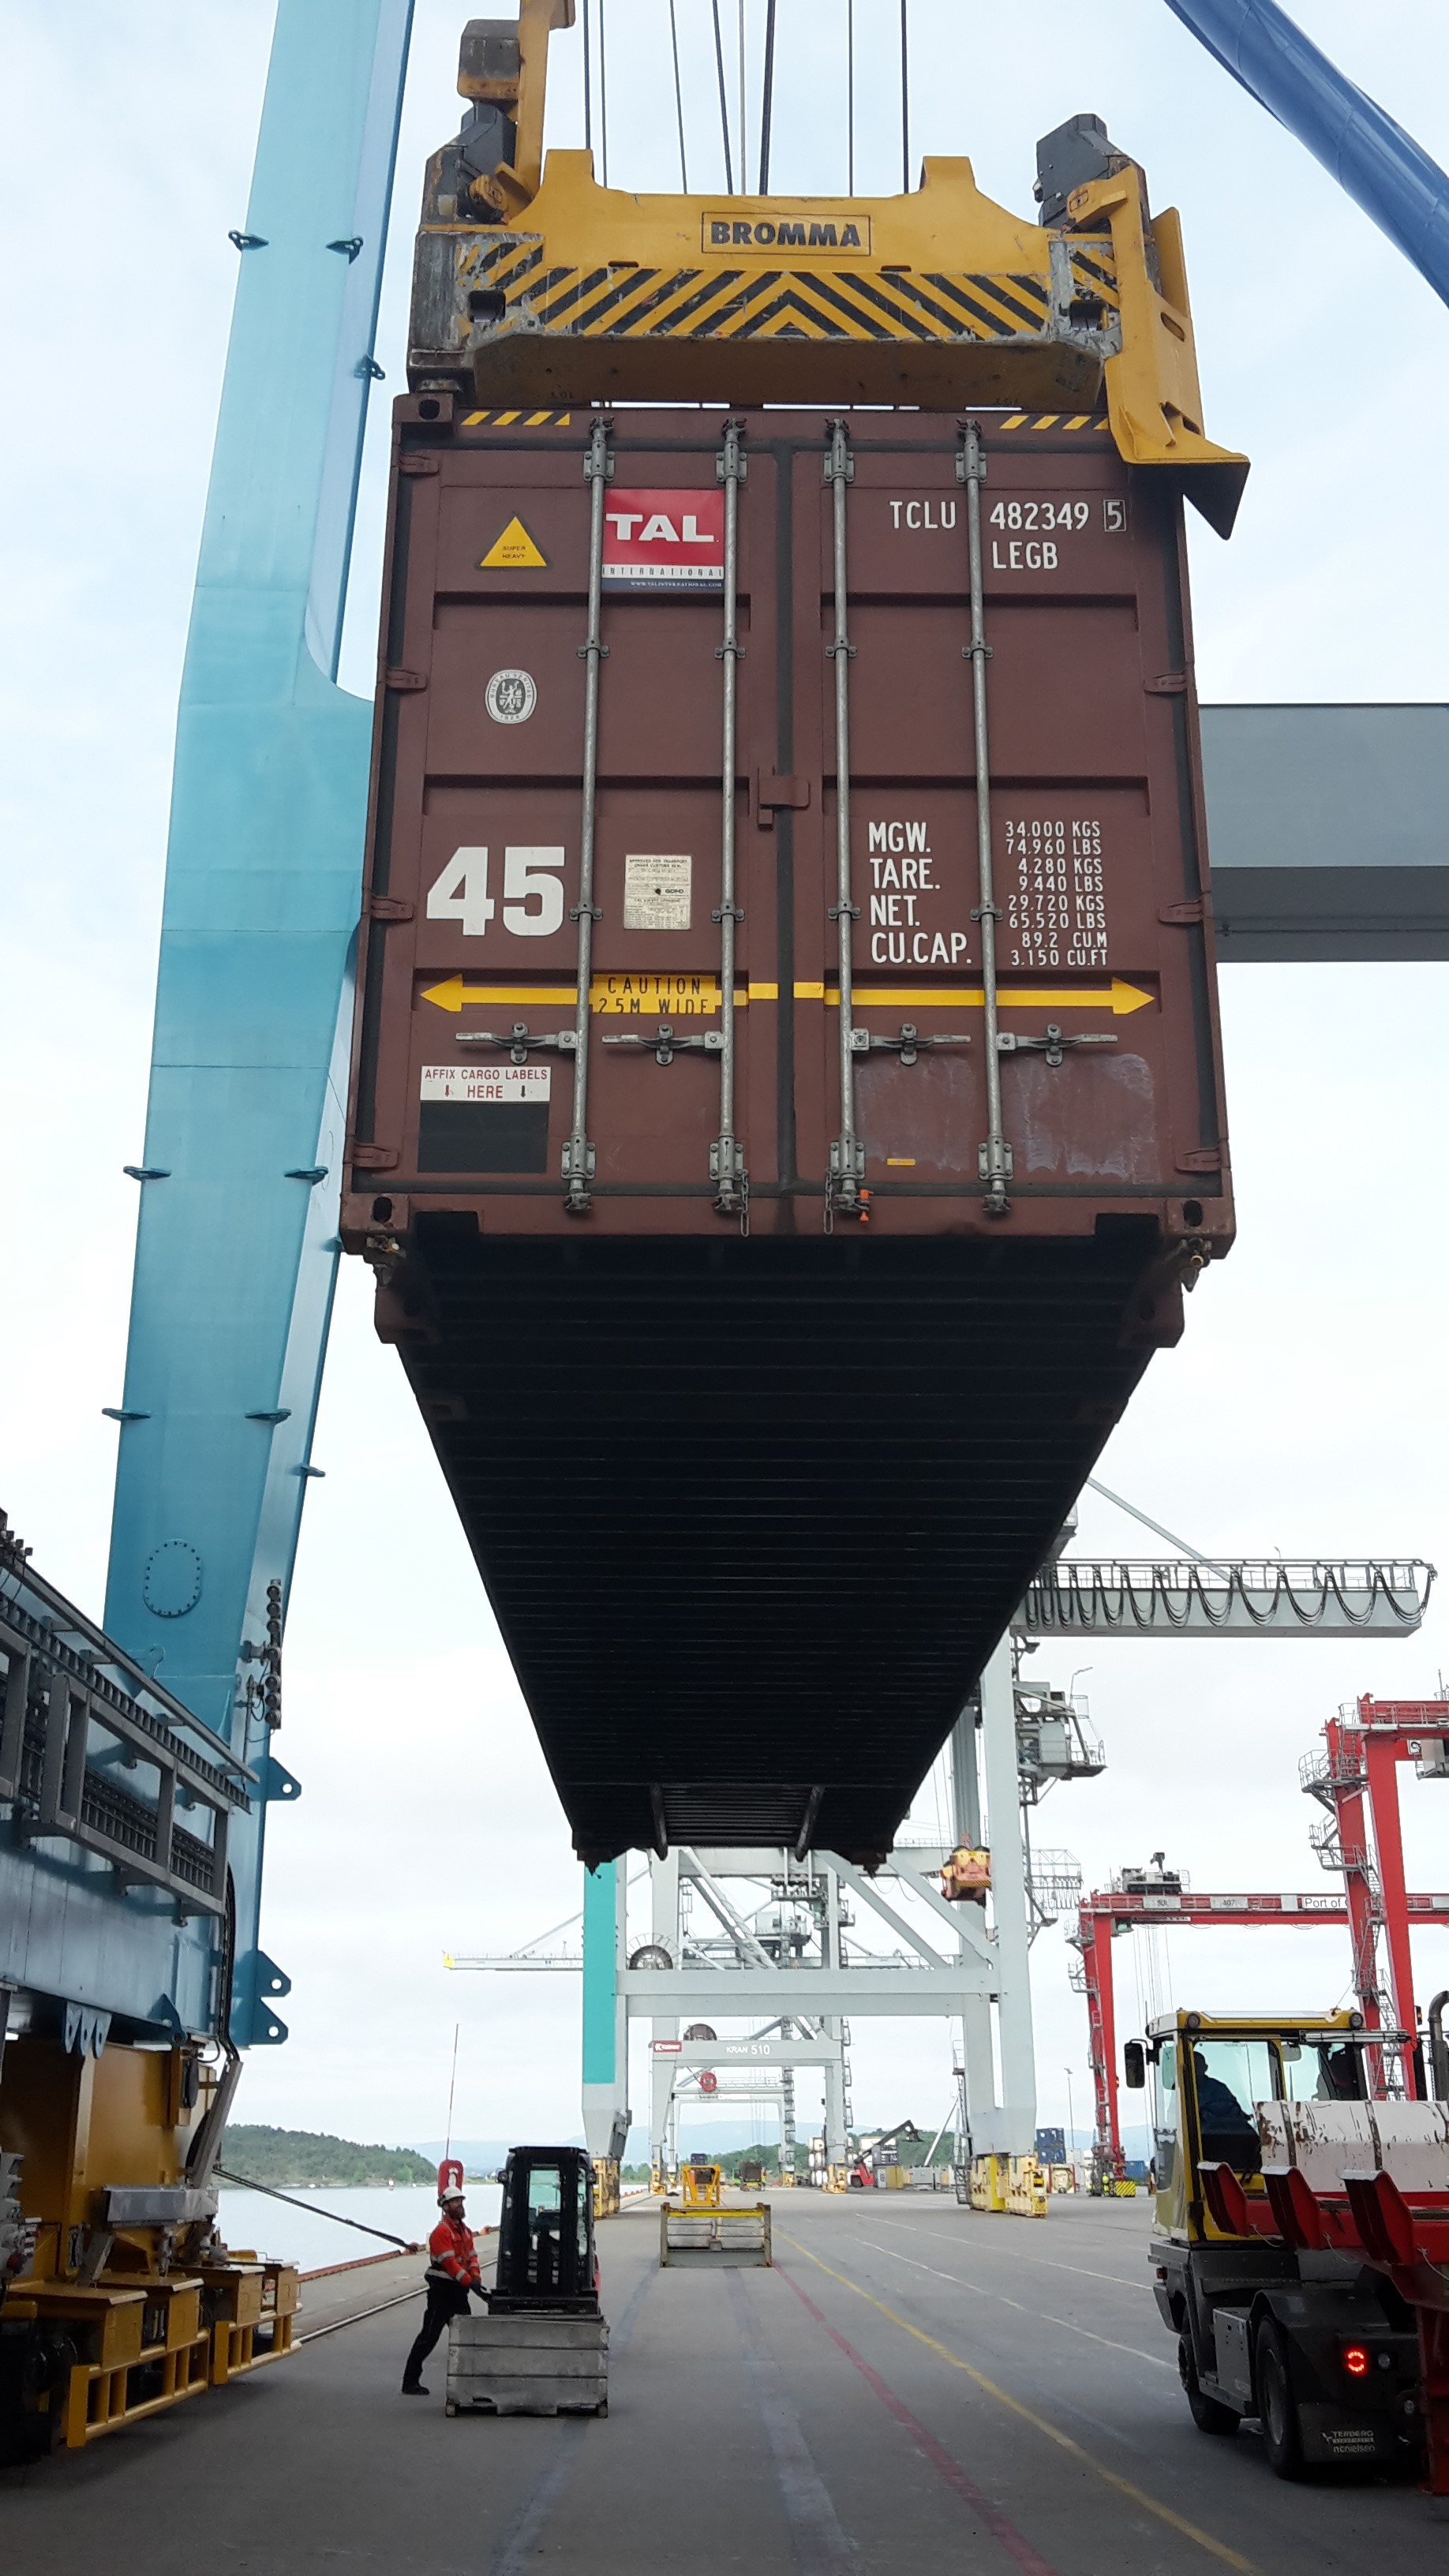container_door: (409, 419, 1214, 1224)
